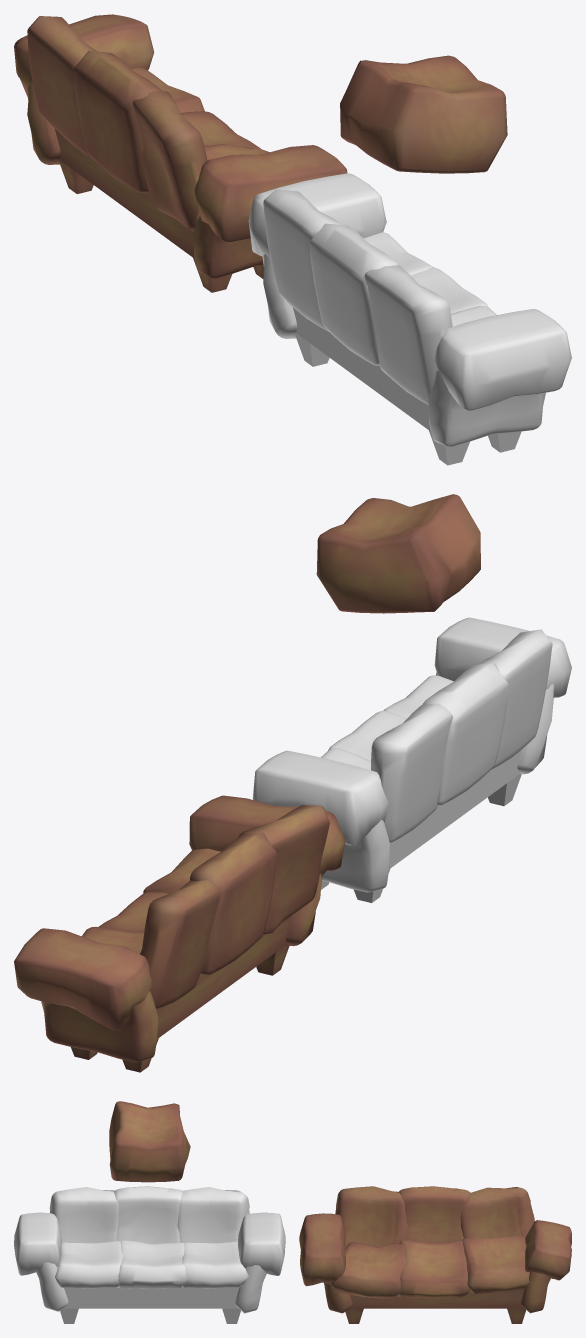
File: cool ass SOFA.fbx
3 views of the same model, one above another, from view 1: azimuth 30°, elevation 25°; view 2: azimuth 150°, elevation 25°; view 3: azimuth 270°, elevation 25° (orthographic). The views are drawn at different scales.
Visible parts, largest first — view 1: Cube.030, Cube.010, Cube.006, Cube.013, Cube.011, Cube.008, Cube.015, Cube.007, Cube.014, Cube.009, Cube.004, Cube.012 (+11 smaller); view 2: Cube.030, Cube.012, Cube.009, Cube.013, Cube.007, Cube.008, Cube.014, Cube.015, Cube.006, Cube.016, Cube.011, Cube.010 (+10 smaller); view 3: Cube.030, Cube.020, Cube.015, Cube, Cube.007, Cube.008, Cube.006, Cube.018, Cube.014, Cube.019, Cube.013, Cube.011 (+11 smaller).
Part boxes in pixels (bbox=[...]): Cube.030: bbox=[340, 55, 507, 173]; Cube.010: bbox=[434, 309, 571, 410]; Cube.006: bbox=[364, 265, 452, 404]; Cube.013: bbox=[73, 51, 161, 193]; Cube.011: bbox=[194, 145, 347, 241]; Cube.008: bbox=[309, 223, 398, 365]; Cube.015: bbox=[133, 90, 207, 231]; Cube.007: bbox=[263, 189, 343, 331]; Cube.014: bbox=[27, 16, 97, 160]; Cube.009: bbox=[248, 173, 386, 258]; Cube.004: bbox=[428, 369, 545, 446]; Cube.012: bbox=[14, 14, 154, 97]; Cube.030: bbox=[316, 494, 480, 613]; Cube.012: bbox=[14, 928, 152, 1029]; Cube.009: bbox=[252, 750, 388, 845]; Cube.013: bbox=[189, 832, 277, 974]; Cube.007: bbox=[371, 703, 452, 842]; Cube.008: bbox=[422, 663, 508, 805]; Cube.014: bbox=[140, 879, 219, 1008]; Cube.015: bbox=[238, 805, 329, 934]; Cube.006: bbox=[477, 629, 552, 769]; Cube.016: bbox=[41, 991, 158, 1062]; Cube.011: bbox=[189, 795, 345, 876]; Cube.010: bbox=[434, 617, 571, 697]; Cube.030: bbox=[109, 1101, 190, 1182]; Cube.020: bbox=[397, 1239, 470, 1298]; Cube.015: bbox=[335, 1186, 408, 1248]; Cube: bbox=[63, 1287, 239, 1308]; Cube.007: bbox=[177, 1187, 249, 1243]; Cube.008: bbox=[114, 1186, 182, 1243]; Cube.006: bbox=[49, 1187, 118, 1243]; Cube.018: bbox=[462, 1236, 529, 1293]; Cube.014: bbox=[460, 1187, 534, 1238]; Cube.019: bbox=[331, 1242, 406, 1298]; Cube.013: bbox=[398, 1186, 471, 1243]; Cube.011: bbox=[299, 1213, 346, 1286].
Size of the model in its own units: 541 by 1118 by 2742.
